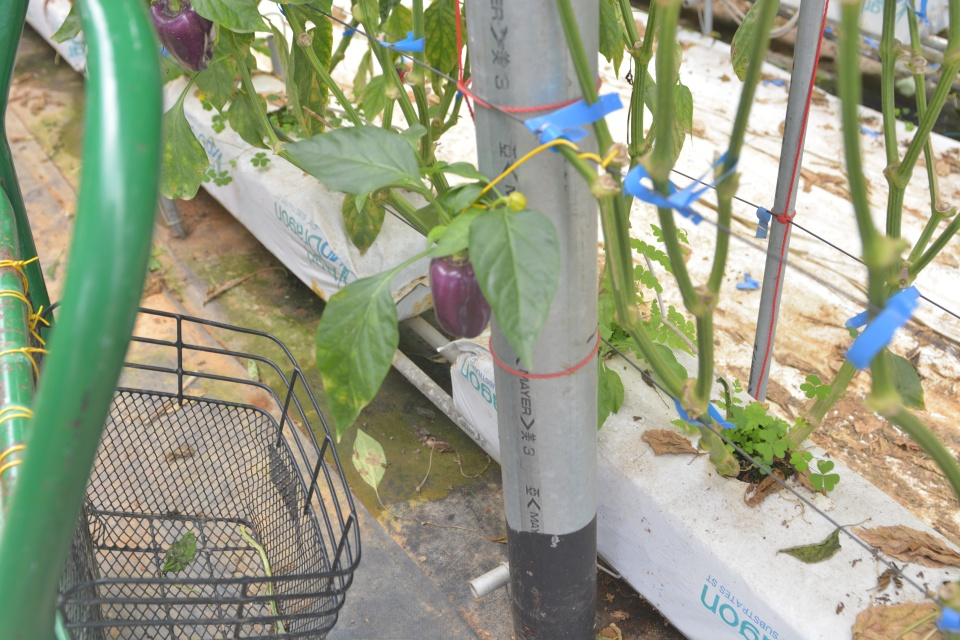fruit: (428, 253, 492, 340), (149, 0, 213, 72)
pedicle: (161, 0, 187, 15), (443, 257, 471, 265)
